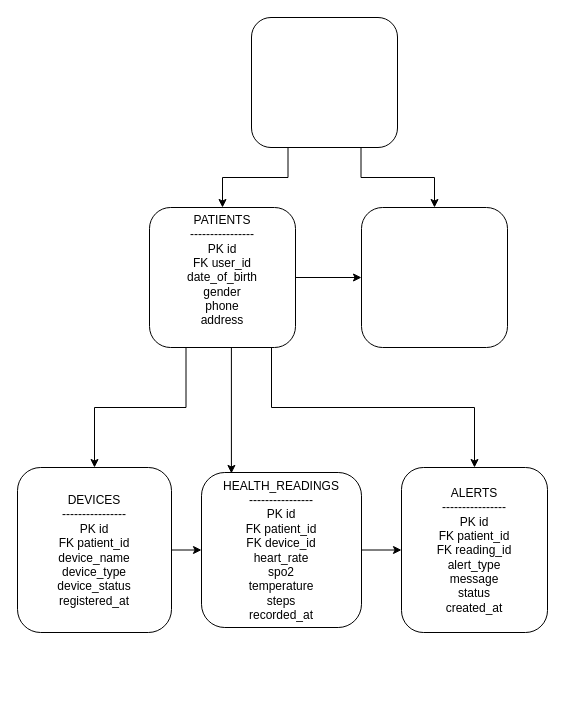
This 565x713 diagram has some shape labels left out. The box of each missing label's shape, as (x1, y1, x2, y2) in pixels:
FAMILY_MEMBERS ---------------- PK id FK user_id FK patient_id relationship: (360, 206, 508, 348)
USERS ---------------- PK id name email password role created_at: (250, 16, 398, 148)
